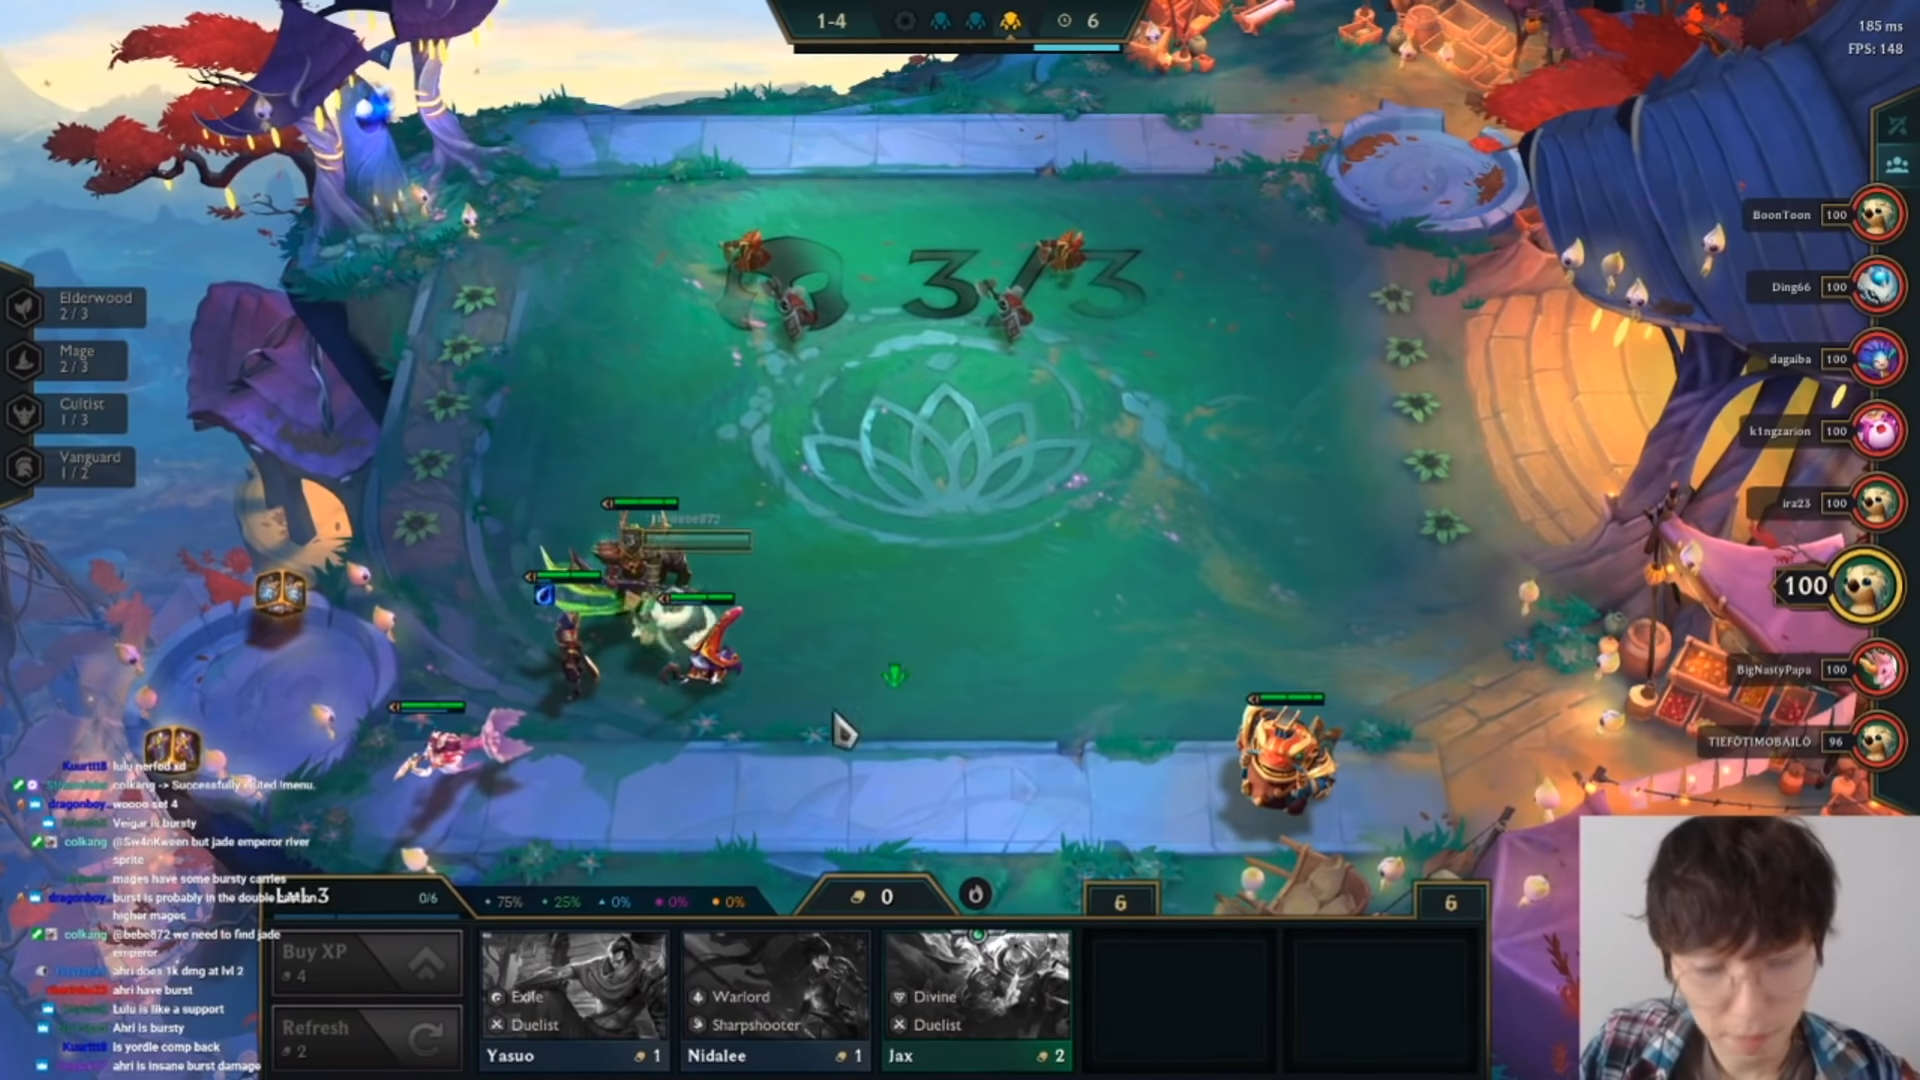1star_lulu: (651, 587, 756, 716)
1star_nami: (375, 691, 541, 837)
1star_tahmkench: (1216, 674, 1352, 847)
1star_twistedfate: (516, 560, 612, 724)
item_tear: (529, 579, 556, 611)
trait_cultist1: (1, 390, 132, 435)
trait_elderwood2: (1, 282, 152, 334)
trait_mage2: (1, 338, 133, 386)
trait_vanguard1: (1, 440, 141, 495)
